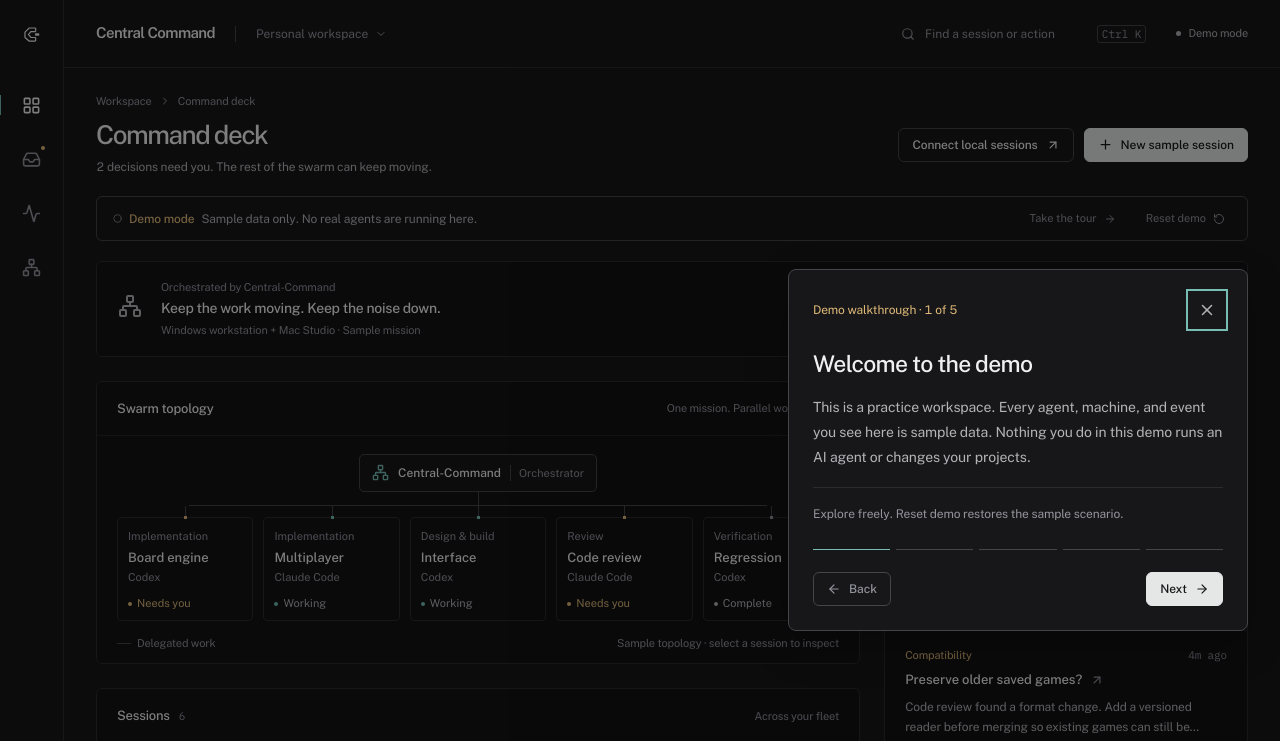
Test: the tour remains dismissible when browser storage is unavailable
Expected: the dialog "Welcome to the demo" is shown, [788, 269, 1248, 631]
Click the button named "Skip tutorial" at (1207, 310), box [1191, 294, 1223, 326]
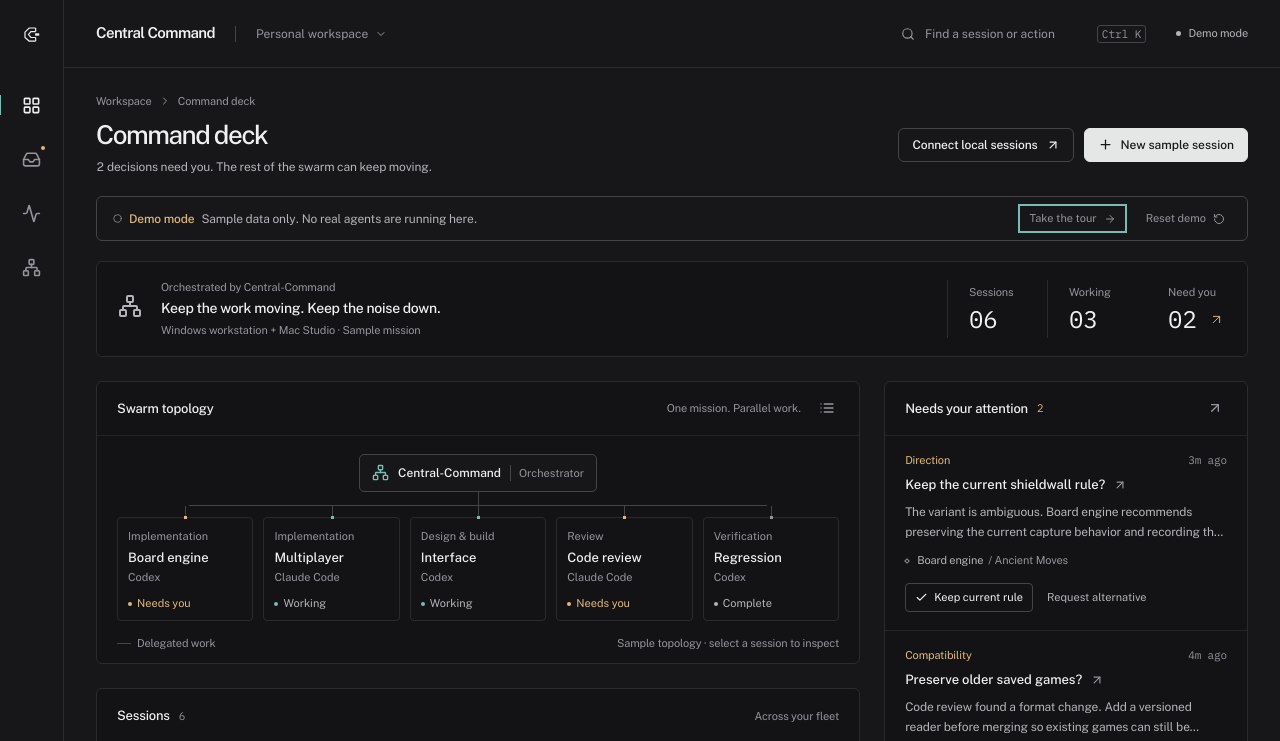
Expected: the dialog is gone
